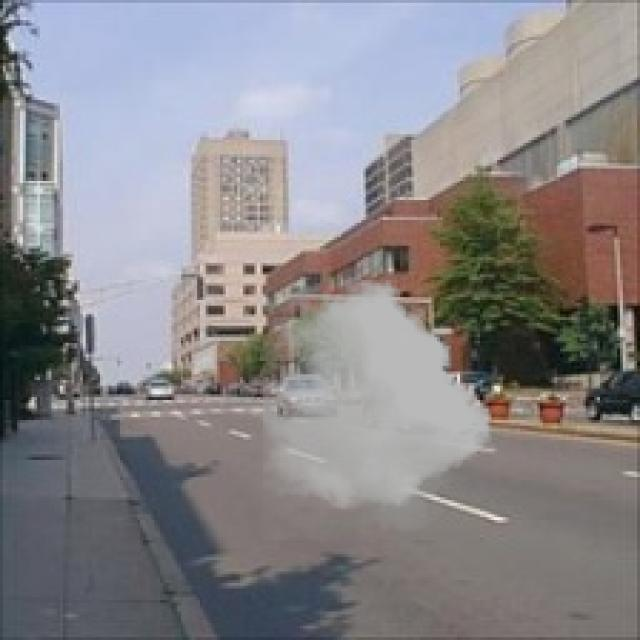Smoke: (263, 274, 492, 540)
